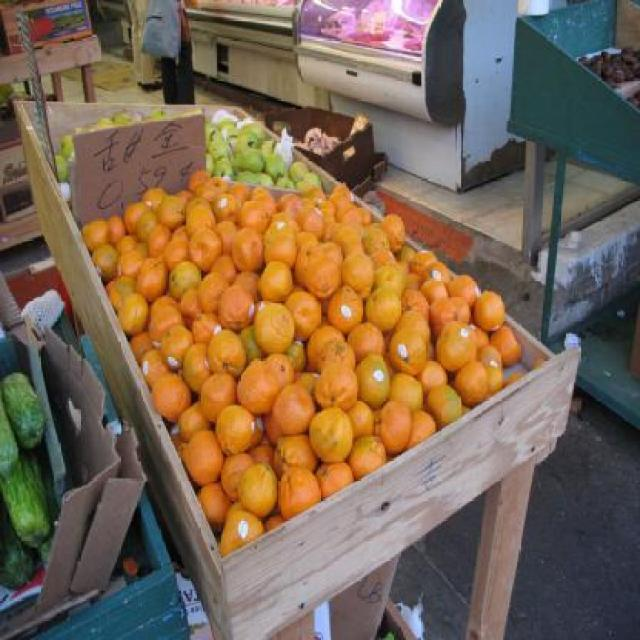Orange: (238, 358, 287, 410), (252, 302, 297, 356), (276, 464, 322, 514), (218, 513, 270, 556), (318, 357, 360, 408), (188, 433, 229, 484), (148, 371, 186, 424), (443, 324, 483, 372), (163, 321, 200, 372), (348, 434, 386, 482), (376, 400, 414, 448), (218, 404, 255, 452), (406, 408, 443, 454), (312, 462, 354, 502), (242, 464, 275, 513), (213, 331, 247, 378), (392, 328, 430, 370), (279, 384, 312, 432), (389, 364, 426, 406), (304, 318, 334, 369), (200, 378, 243, 412), (458, 358, 488, 406), (220, 286, 253, 328), (371, 284, 402, 328), (154, 302, 183, 349), (294, 292, 326, 332), (200, 266, 228, 311), (360, 354, 386, 402), (255, 259, 288, 296), (474, 292, 506, 330), (178, 408, 208, 448), (424, 388, 466, 416), (186, 341, 211, 388), (224, 453, 250, 498), (190, 224, 224, 258), (341, 254, 374, 288), (174, 258, 203, 296), (401, 306, 434, 339), (306, 258, 334, 296), (274, 229, 300, 269), (496, 326, 524, 362), (143, 342, 172, 376), (433, 290, 456, 332), (262, 354, 302, 378), (196, 486, 224, 520), (237, 232, 265, 266), (334, 284, 362, 318), (322, 414, 348, 450), (404, 288, 433, 320), (296, 213, 321, 250), (78, 216, 105, 250), (418, 358, 448, 388), (138, 262, 172, 288), (363, 222, 391, 253), (346, 328, 382, 352), (239, 198, 264, 232), (372, 248, 401, 276), (380, 216, 406, 247), (112, 276, 134, 312), (284, 434, 306, 470), (483, 362, 506, 396), (214, 196, 243, 222), (166, 236, 191, 266), (158, 196, 182, 227), (301, 236, 317, 279), (92, 246, 116, 274), (130, 296, 146, 338), (352, 400, 370, 437), (340, 233, 368, 256), (381, 264, 404, 292), (124, 203, 146, 232), (260, 445, 285, 470), (334, 182, 358, 208), (136, 209, 156, 240), (118, 252, 146, 274), (270, 210, 298, 232), (106, 218, 125, 250), (422, 280, 446, 305), (192, 310, 215, 336), (320, 334, 352, 352), (410, 254, 432, 280), (128, 334, 150, 358), (208, 172, 224, 205), (217, 252, 240, 274), (340, 206, 362, 229), (188, 169, 206, 197), (146, 184, 166, 208), (186, 205, 214, 222), (182, 285, 198, 313), (247, 210, 266, 232), (299, 192, 318, 214), (453, 296, 469, 322), (328, 213, 342, 242), (185, 196, 208, 213), (406, 274, 423, 296), (266, 513, 282, 536), (276, 192, 296, 210), (317, 200, 331, 225), (229, 180, 243, 203), (252, 190, 270, 206), (130, 246, 152, 257), (455, 279, 473, 292), (122, 238, 136, 250)
